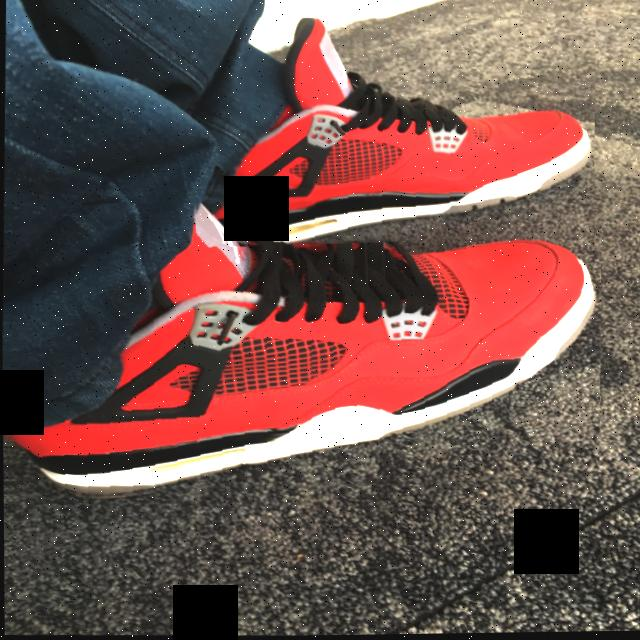shoe: (1, 195, 603, 511), (194, 13, 596, 255)
